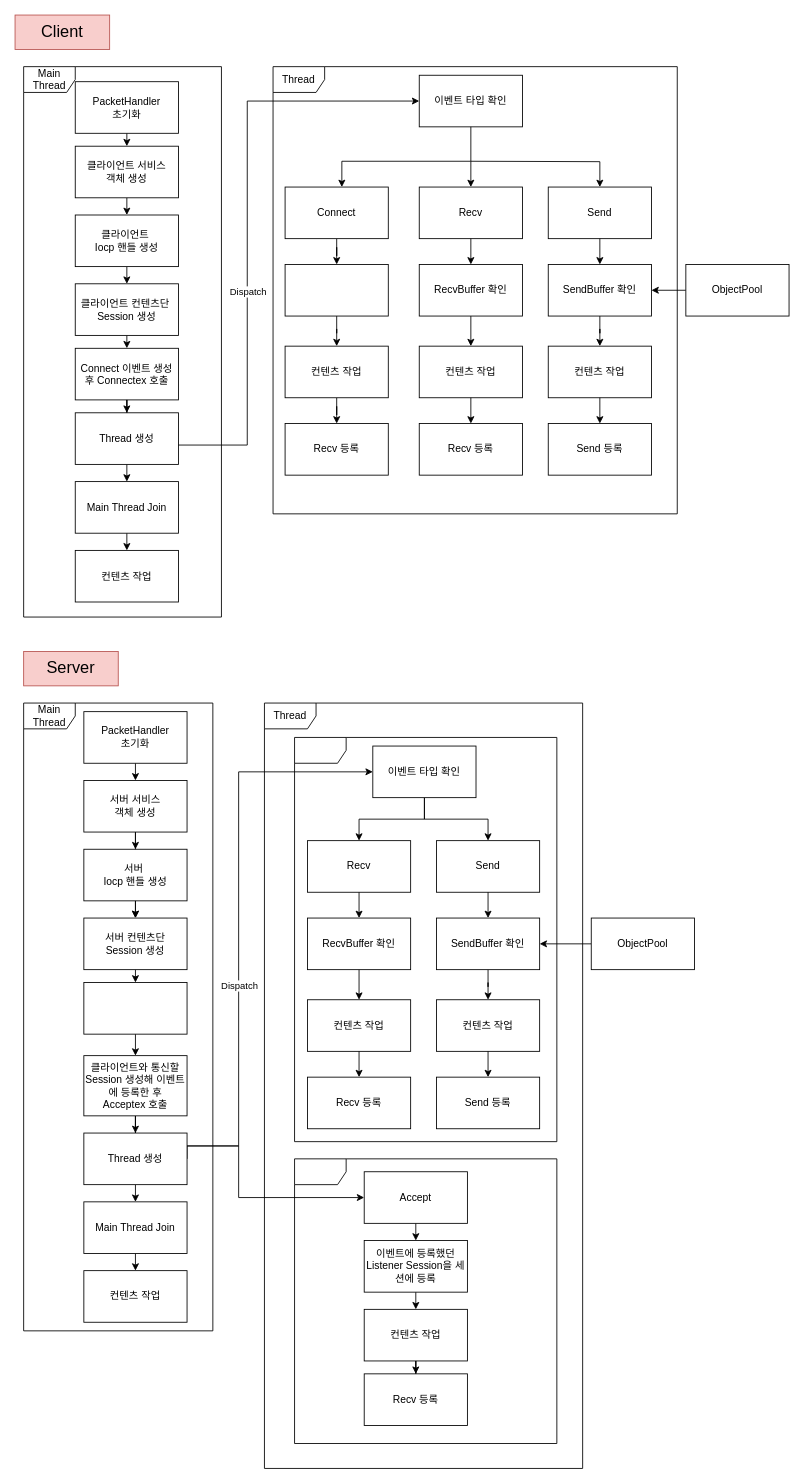
Image size: 804x1484. Some labels were removed from this diagram. The shapes that lost their labels are listed below. From the top down, each one's centre as x and y in pixels, then its label:
At pixel 336 290: "클라이언트 서비스에 현재 세션 등록".
At pixel 425 939: "Session".
At pixel 135 1008: "Listener 생성".
At pixel 425 1301: "Listener".
